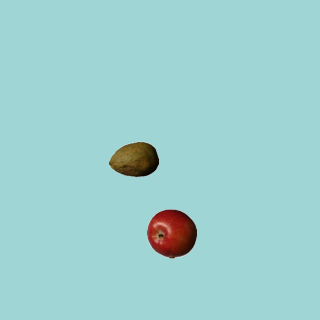Apple Braeburn: (146, 208, 196, 258)
Papaya: (108, 134, 158, 184)
